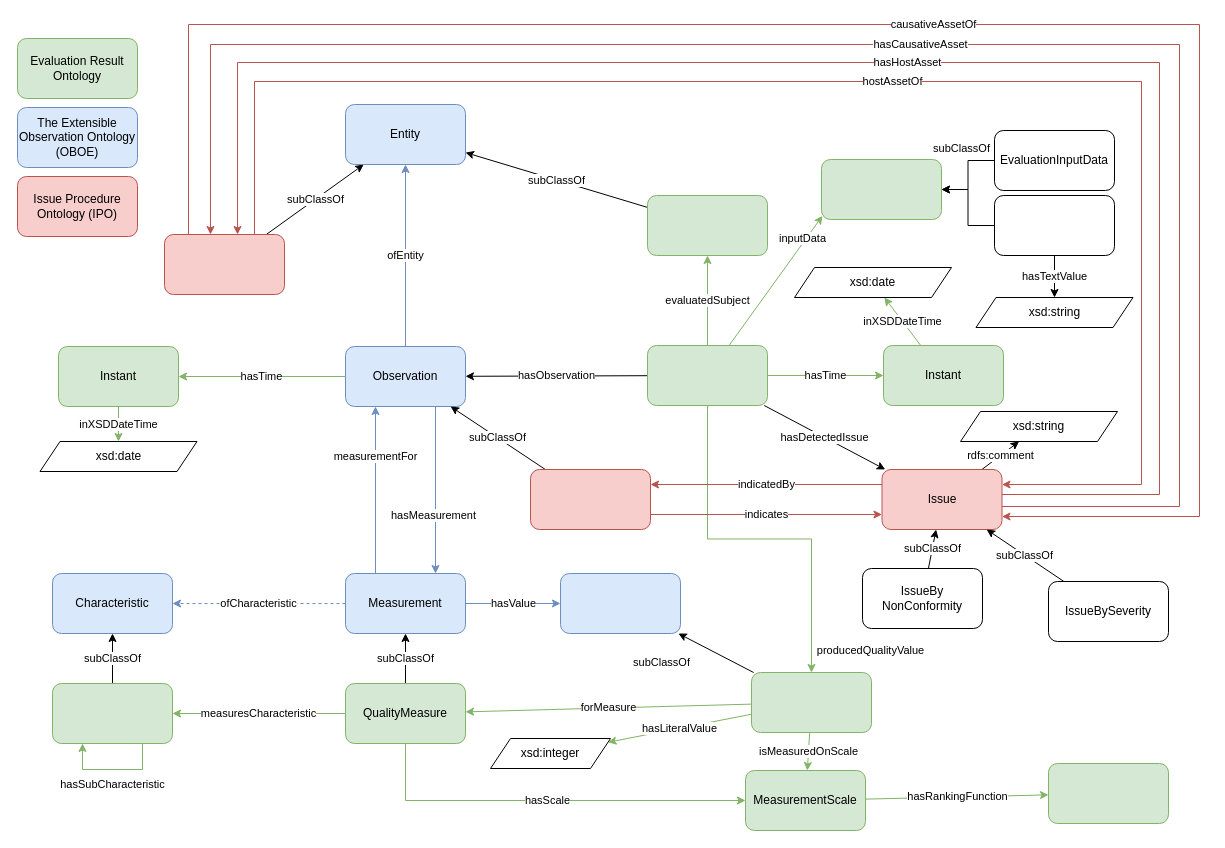
The diagram is 1225 pixels wide and 848 high, and some of its shapes have lost their labels. Each missing label, with the centre of its shape:
"Asset" goes at [224,264].
"Evaluation" goes at [707,375].
"Evaluation ConfigurationData" goes at [1054,225].
"EvaluationData" goes at [881,189].
"EvaluationSubject" goes at [707,225].
"MeasuredValue" goes at [620,603].
"QualityCharacteristic" goes at [112,713].
"QualityValue" goes at [811,702].
"RankingFunction" goes at [1108,793].
"Symptom" goes at [590,499].
